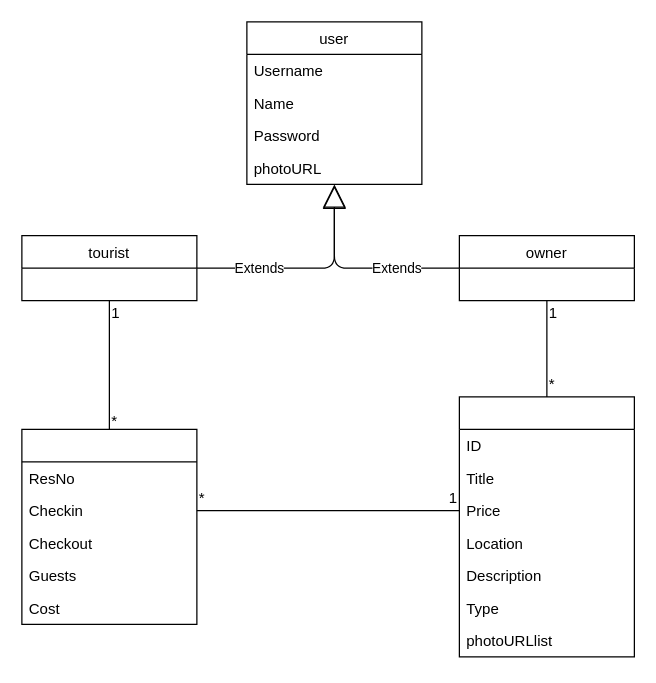
Some shapes in this 656 by 683 pixel diagram are drawn without their labels. The box of each missing label's shape, as (x1, y1, x2, y2) in pixels:
places: (458, 396, 634, 657)
reservation: (21, 428, 197, 624)
